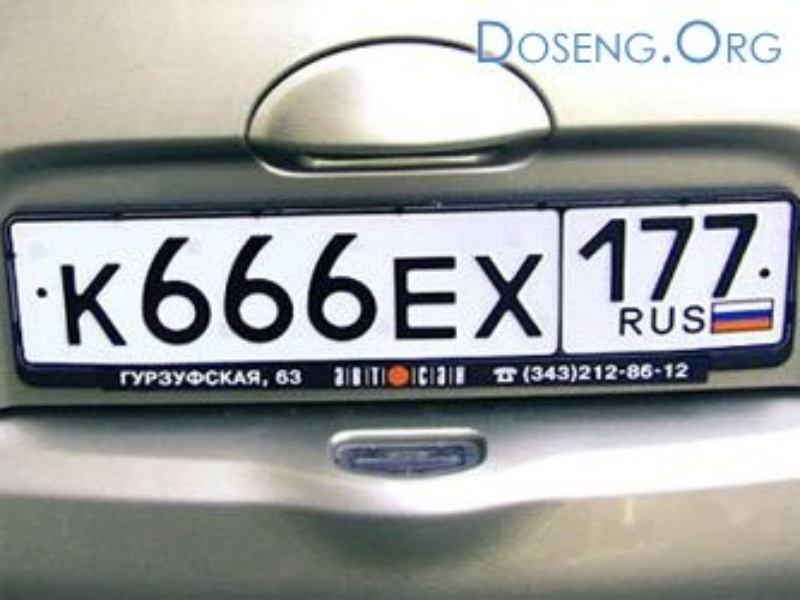plate: (11, 203, 795, 367)
